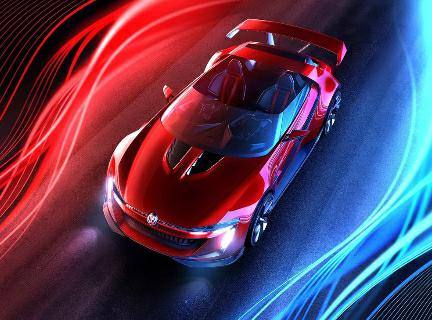大众-夏朗: (93, 15, 354, 276)
